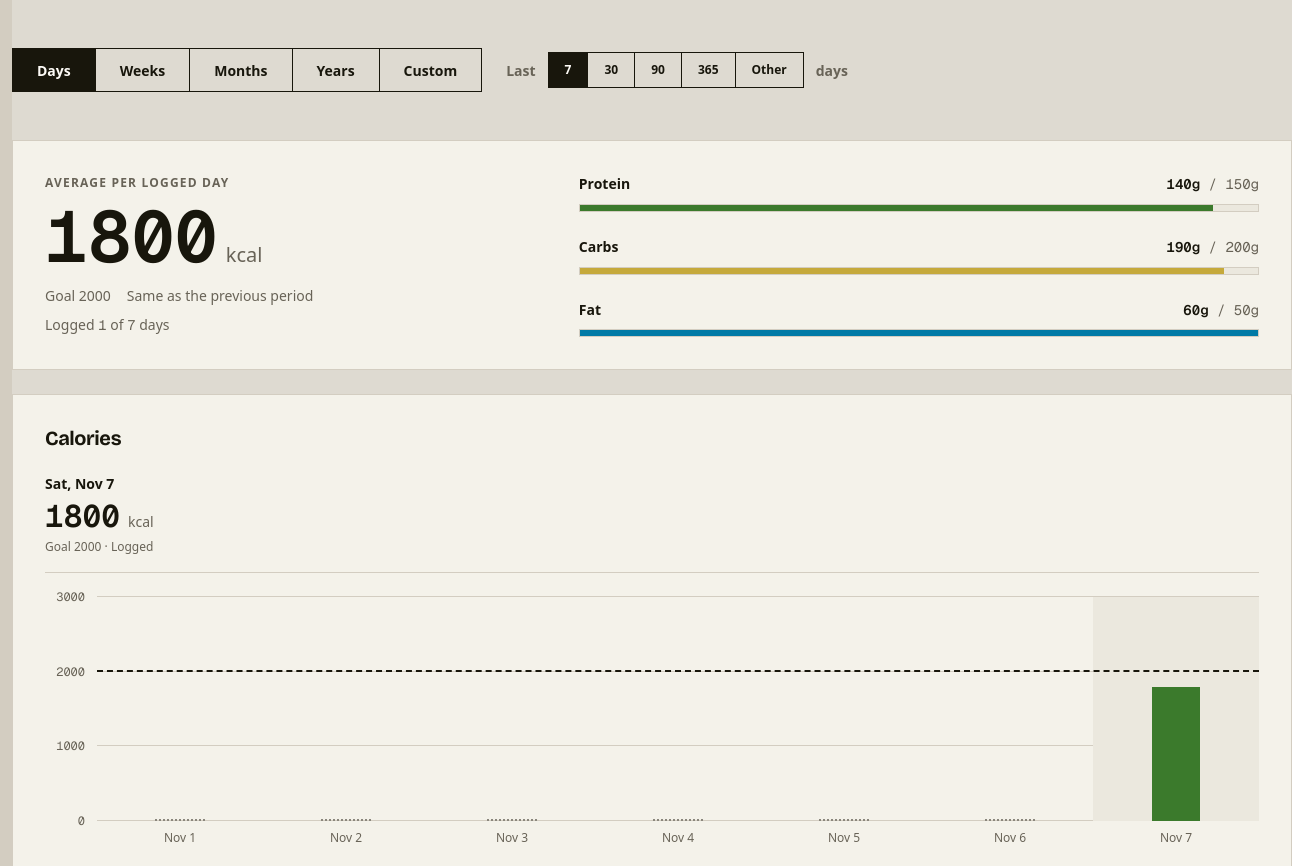
Trends › lists months under their own heading
Expected: the text "Average per logged day" is shown, x1=45 y1=174 x2=229 y2=191
Click the button "Months". click: coordinates (241, 70)
box: x1=190 y1=49 x2=292 y2=91
(page scrolled)
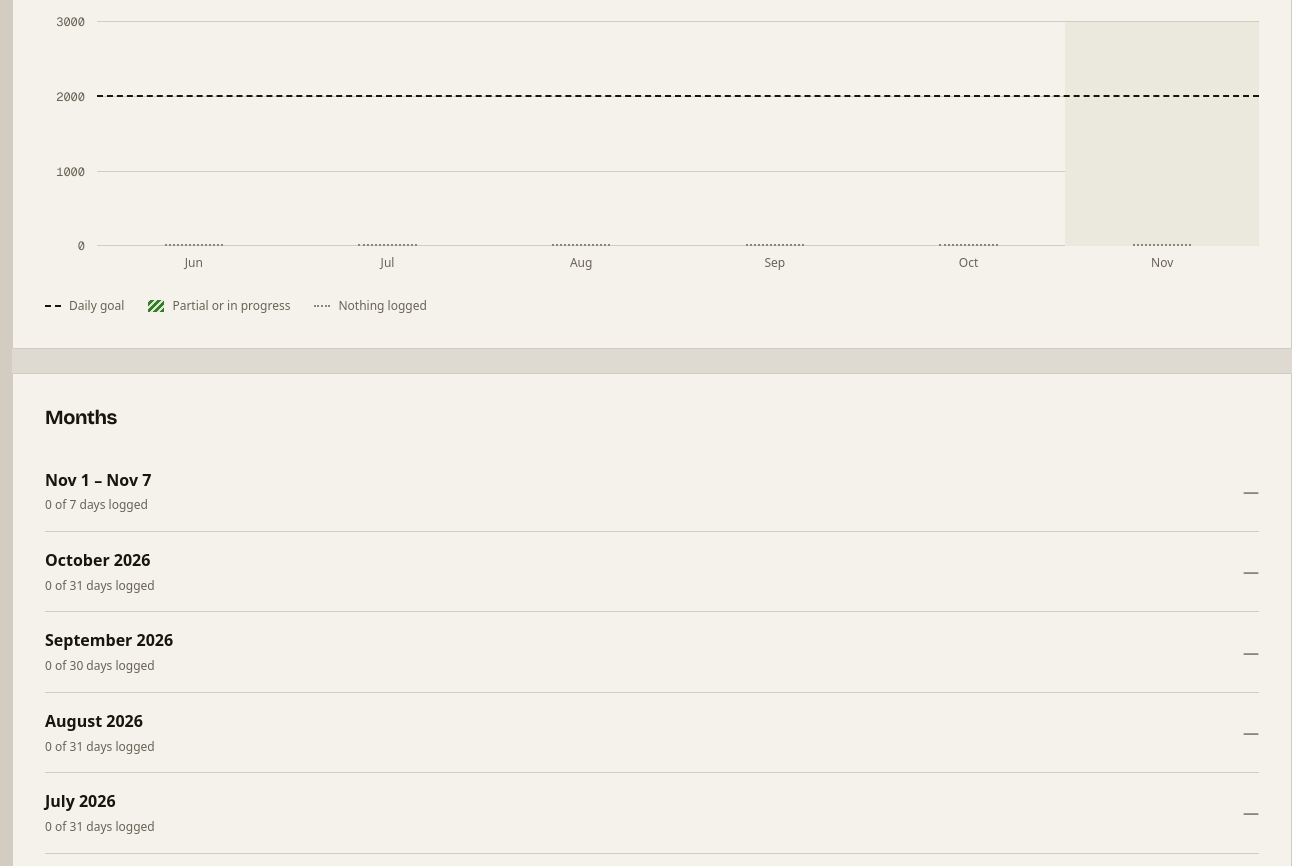
Now the heading "Months" is shown, box x1=45 y1=405 x2=117 y2=429
